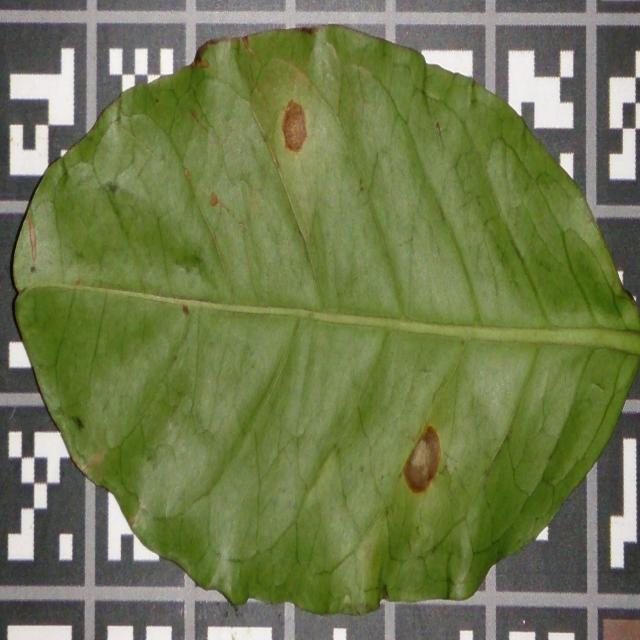Enfermedad-Mancha-de-hierro: (11, 28, 640, 617)
